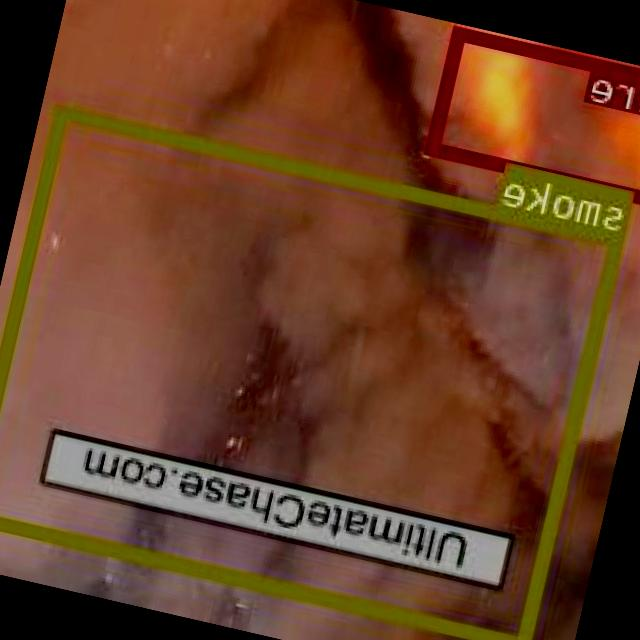fire: (427, 25, 640, 206)
smoke: (0, 103, 625, 640)
